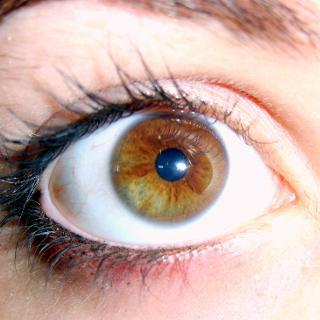pupil: (155, 149, 188, 182)
